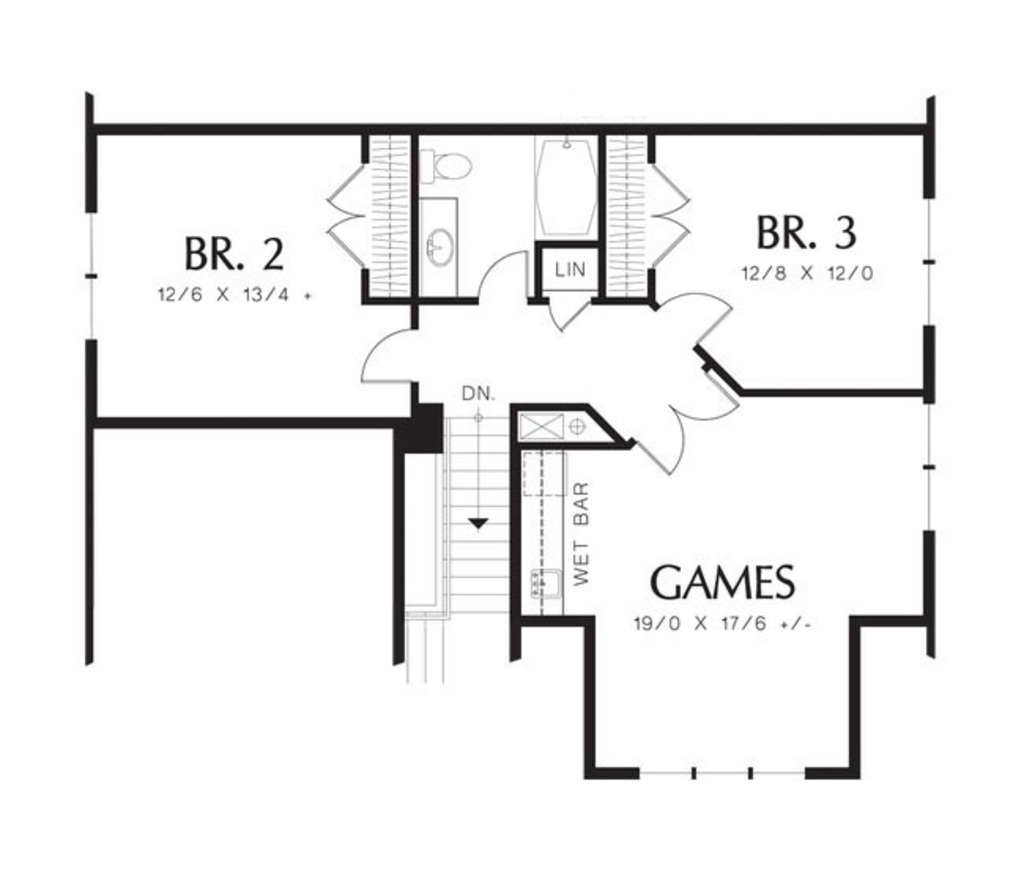door: (627, 363, 748, 477), (307, 154, 371, 271), (653, 273, 735, 346), (644, 160, 696, 269), (470, 242, 535, 312), (352, 321, 419, 386), (550, 292, 592, 342)
large_sink: (415, 136, 481, 194)
small_sink: (416, 198, 456, 296)
stairs: (396, 412, 523, 683)
tub: (529, 137, 600, 242)
window: (79, 211, 99, 338), (920, 402, 937, 531), (925, 202, 937, 325)
